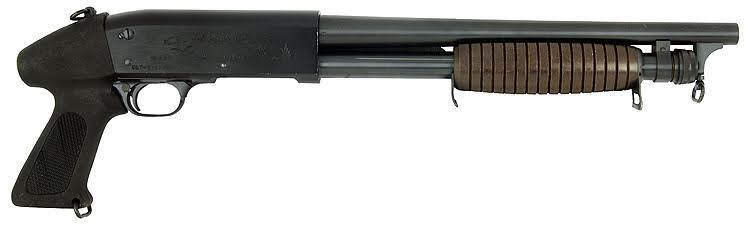gun: (9, 4, 748, 218)
